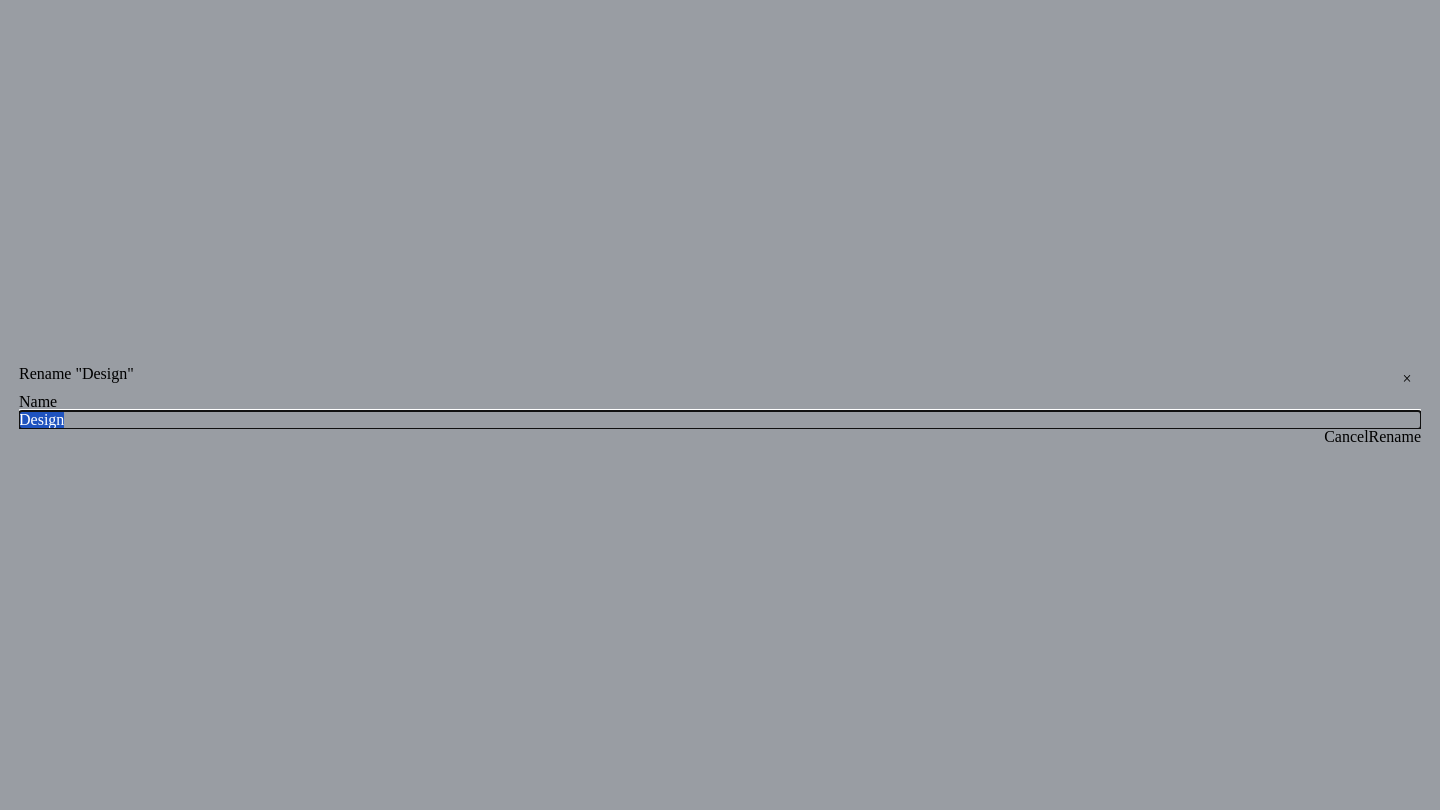
RenameItem › refuses an empty name next to the field and stays open
Clear the field labelled "Name". click: (720, 420)
box: [19, 411, 1421, 429]
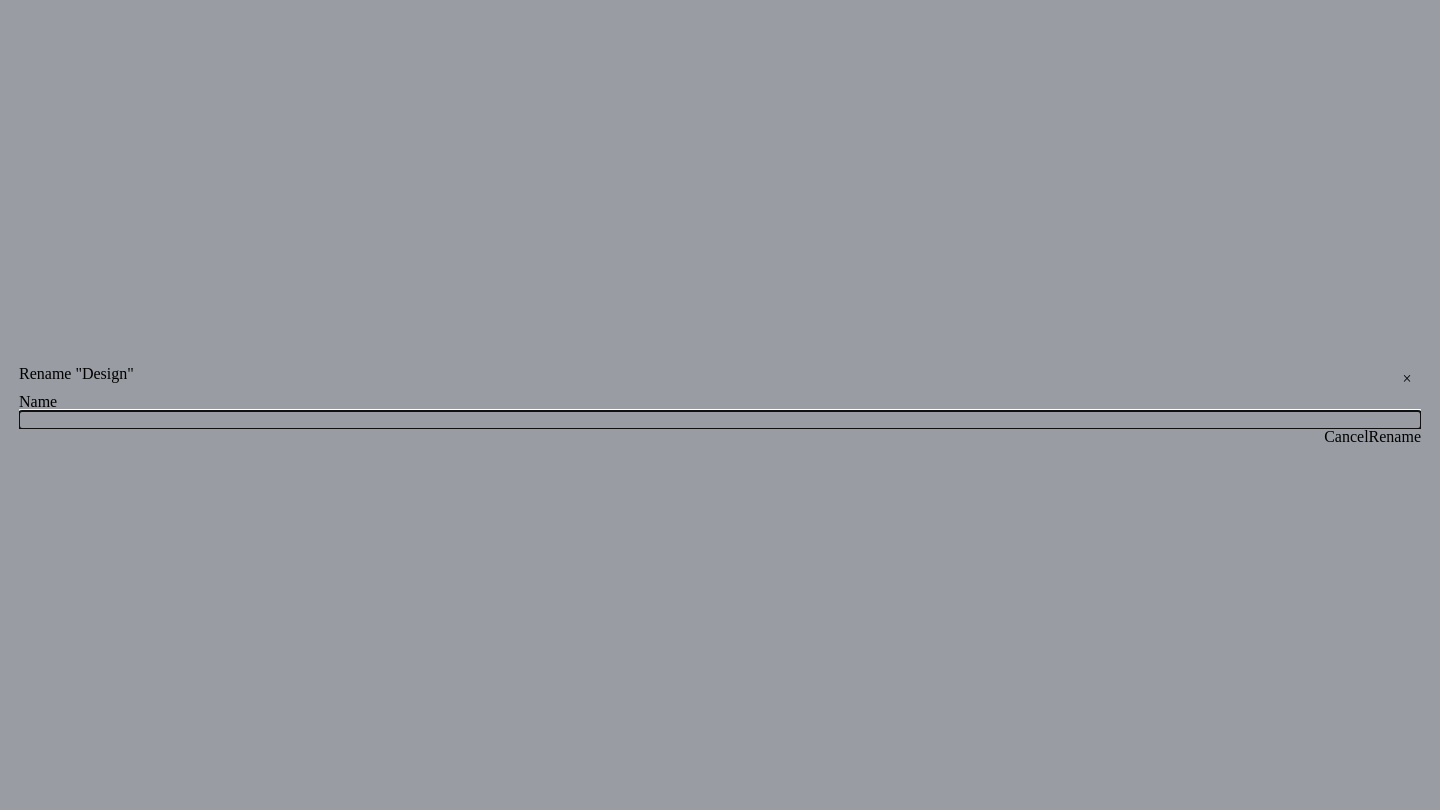
Press Enter
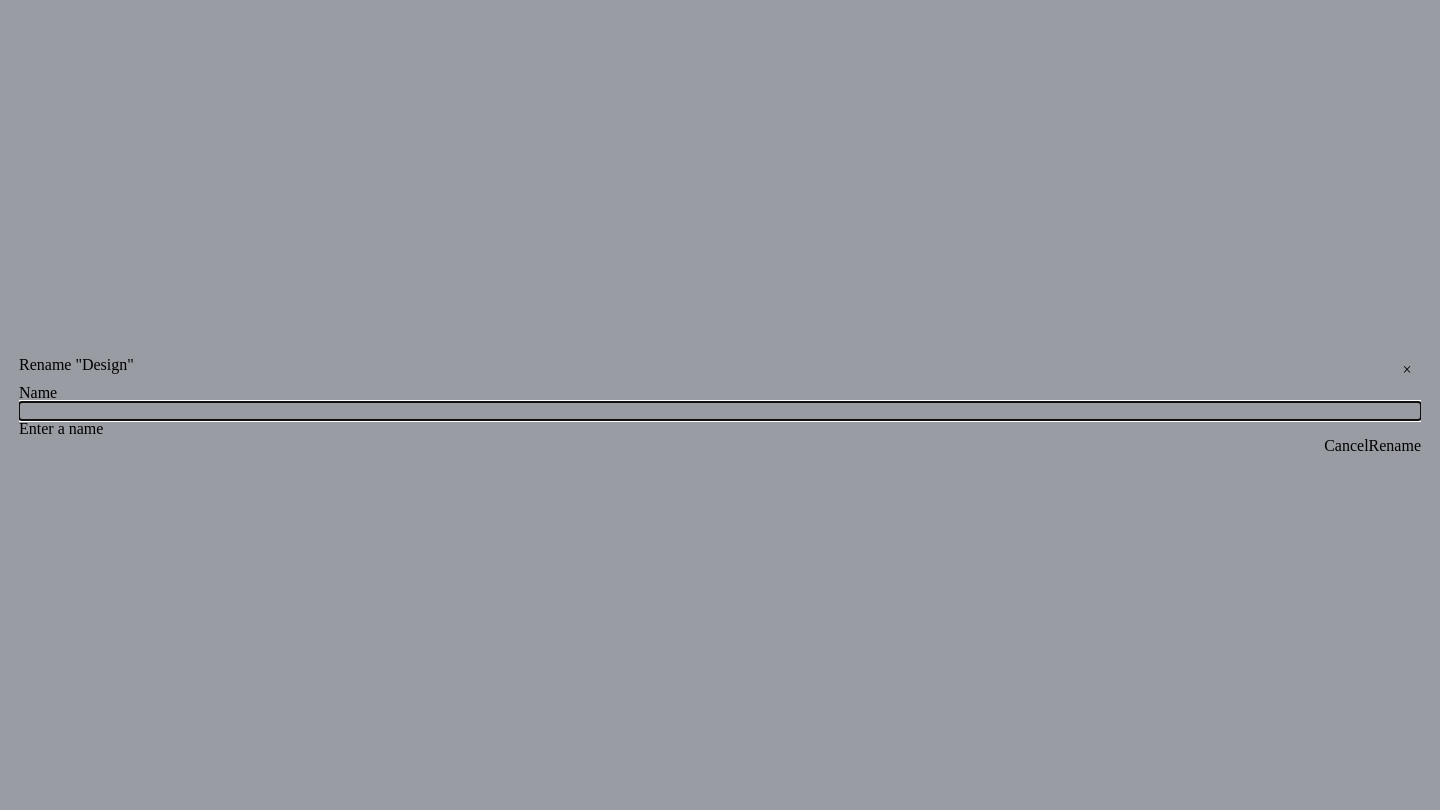
Expected: the text "Enter a name" is shown, [19, 420, 103, 437]
